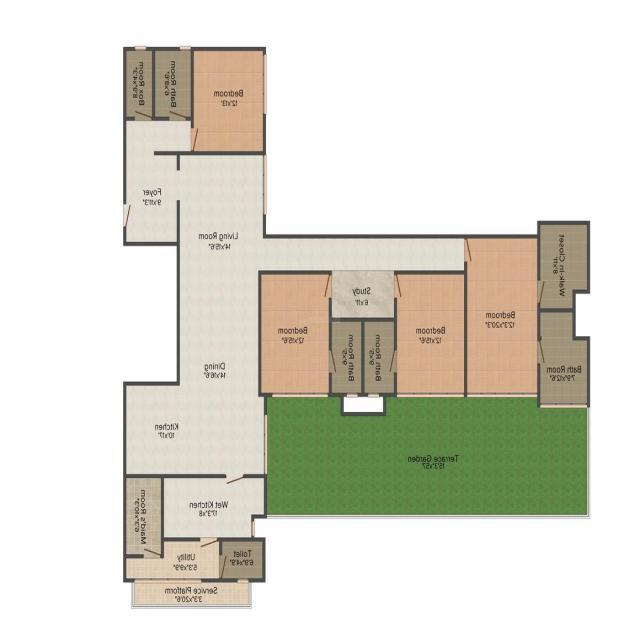Bedroom: (463, 230, 541, 398), (394, 269, 469, 398), (259, 270, 332, 398), (189, 47, 266, 156)
Dining: (177, 294, 260, 384)
Enterance-Foyer: (122, 194, 177, 246)
Kitchen: (124, 382, 267, 480), (161, 473, 268, 543)
Living: (179, 154, 262, 244)
Toilet: (539, 307, 590, 407), (361, 316, 398, 398), (329, 319, 364, 397), (154, 50, 190, 120), (222, 537, 265, 582)
Utility: (123, 538, 222, 581)
